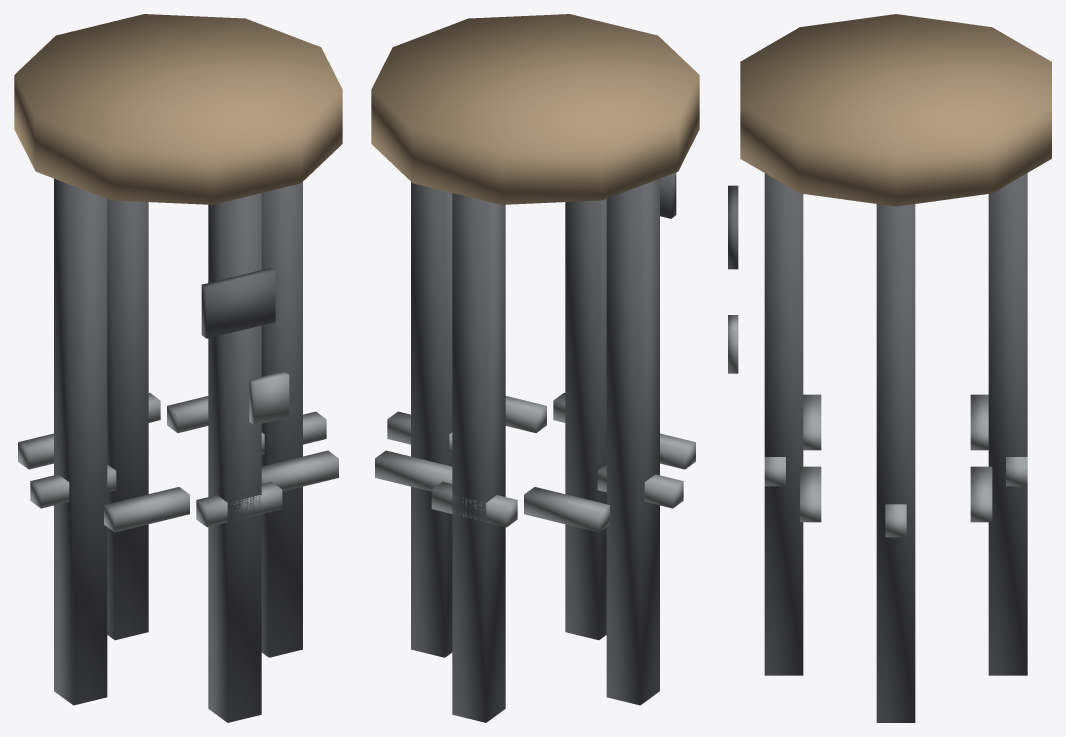
The model's file is bar_stool__weathered.glb.
3 views of the same model, side by side, from view 1: azimuth 30°, elevation 25°; view 2: azimuth 150°, elevation 25°; view 3: azimuth 270°, elevation 25° (orthographic).
Visible parts, largest first — view 1: world; view 2: world; view 3: world.
Boxes of the visible parts, x1,y1,x2,y2 form: world: (14, 14, 342, 722); world: (371, 14, 699, 722); world: (728, 14, 1051, 722).
Bounding box in the file's own units: 0.38 × 0.7474 × 0.3754.
